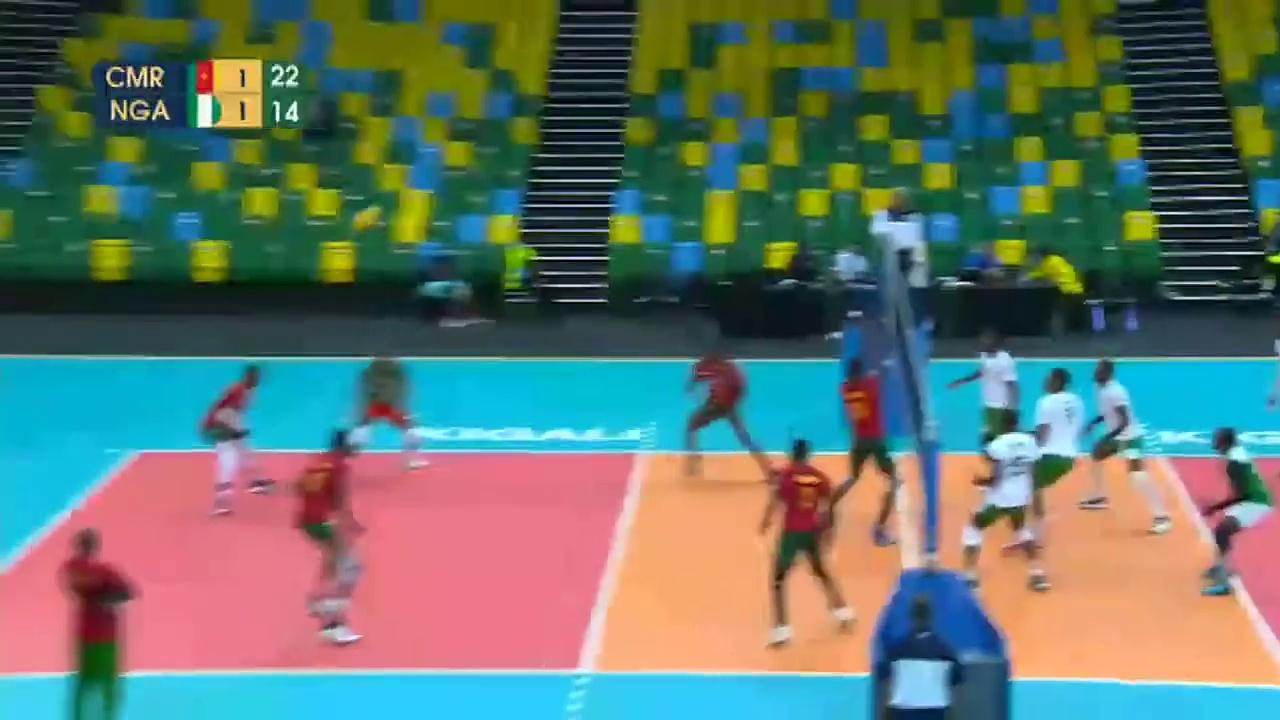player: (765, 430, 863, 652), (961, 406, 1064, 609), (821, 329, 904, 548), (1083, 342, 1170, 545), (298, 427, 379, 637), (1188, 415, 1280, 594), (671, 334, 769, 476), (1010, 369, 1083, 549), (346, 336, 424, 471), (966, 321, 1017, 499), (205, 370, 264, 516)
refree: (876, 592, 962, 720), (876, 176, 925, 306)
